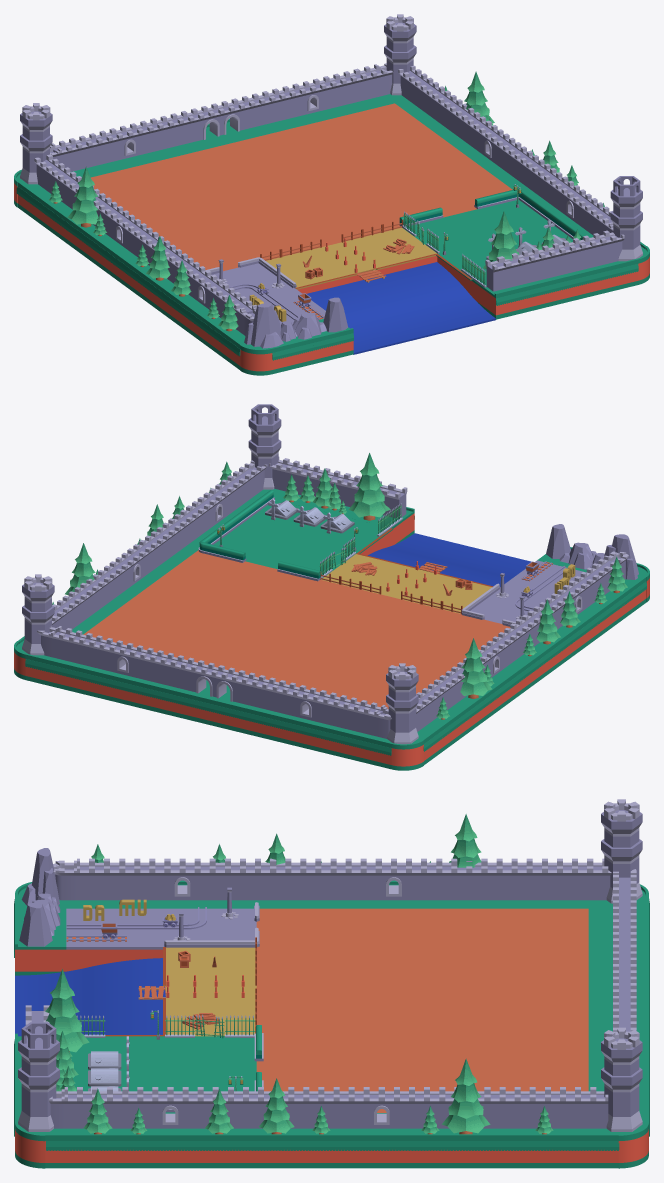
File: GameWorldScene.glb
3 renders of one model, top to bottom at view 1: azimuth 30°, elevation 25°; view 2: azimuth 150°, elevation 25°; view 3: azimuth 270°, elevation 25°, orthographic. The views are drawn at different scales.
Visible parts, largest first — view 1: scene, floor, grass-wall, mine-building, pine.016, pine.001, beach-building, beach-wall, pine.011, pine.020; view 2: scene, floor, grass-wall, mine-building, pine.001, pine.016, beach-building, beach-wall, pine.011, pine.020; view 3: scene, floor, mine-building, pine.011, pine.001, pine.007, pine.016, beach-building, pine.006, pine.009, crypt-small-roof.001, crypt-small-roof.002.
Boxes of the visible parts, x1,y1,x2,y2 form: scene: [14, 14, 649, 375]; floor: [91, 103, 572, 324]; grass-wall: [399, 189, 585, 239]; mine-building: [205, 257, 324, 321]; pine.016: [67, 166, 98, 227]; pine.001: [483, 211, 518, 269]; beach-building: [303, 238, 414, 279]; beach-wall: [260, 219, 403, 260]; pine.011: [464, 71, 494, 123]; pine.020: [146, 235, 170, 280]; scene: [14, 404, 649, 770]; floor: [83, 500, 585, 708]; grass-wall: [198, 490, 320, 581]; mine-building: [461, 561, 575, 626]; pine.001: [348, 453, 390, 520]; pine.016: [460, 638, 491, 698]; beach-building: [351, 561, 472, 595]; beach-wall: [320, 571, 462, 614]; pine.011: [65, 543, 95, 595]; pine.020: [536, 599, 560, 644]; scene: [14, 799, 649, 1168]; floor: [66, 908, 588, 1112]; mine-building: [66, 887, 259, 947]; pine.011: [442, 1058, 490, 1134]; pine.001: [45, 969, 89, 1052]; pine.007: [259, 1078, 294, 1134]; pine.016: [449, 814, 481, 867]; beach-building: [166, 950, 244, 1029]; pine.006: [83, 1088, 112, 1134]; pine.009: [205, 1088, 233, 1134]; crypt-small-roof.001: [88, 1068, 121, 1086]; crypt-small-roof.002: [88, 1051, 121, 1069].
Size of the model in its own units: 20.6 by 4.62 by 21.07.
Materials: 63 (35 with a texture image).
